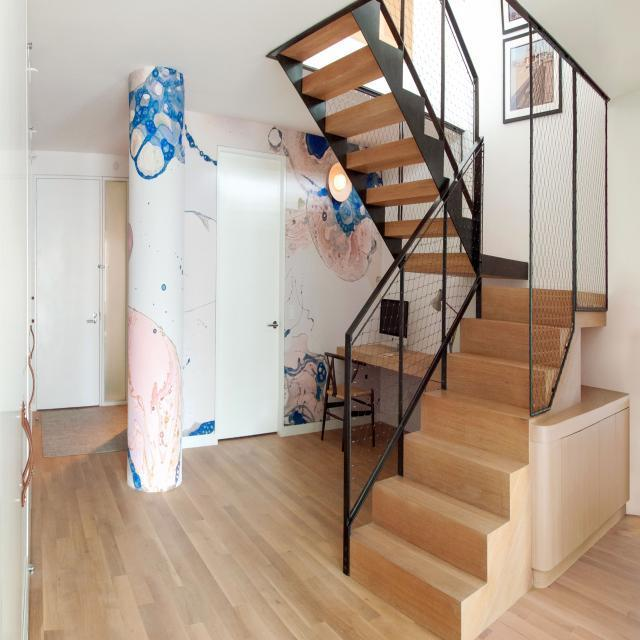stairs: (344, 282, 574, 638)
